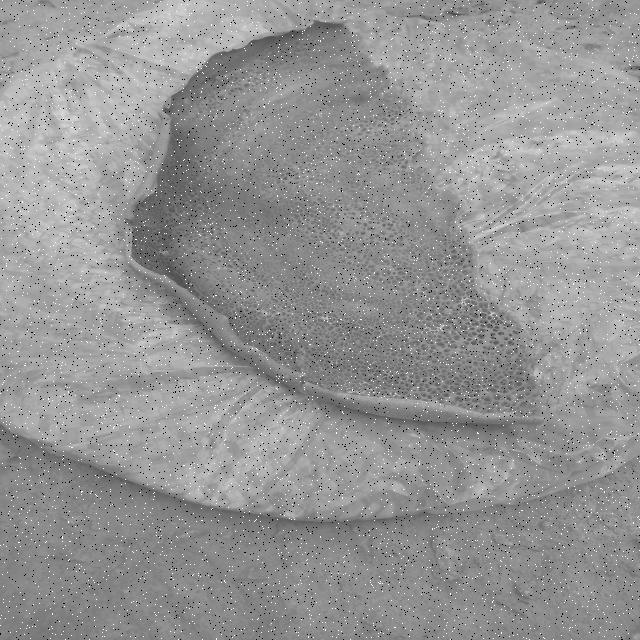injera_mold: (343, 380, 378, 396), (419, 322, 451, 336), (253, 307, 280, 318), (460, 296, 477, 312), (289, 320, 306, 332), (382, 370, 397, 380), (328, 230, 343, 240), (312, 240, 326, 247), (307, 378, 320, 385), (282, 233, 293, 241), (158, 248, 170, 255), (179, 211, 190, 217), (322, 315, 331, 321), (283, 296, 291, 302), (315, 298, 323, 304), (212, 114, 219, 120), (329, 361, 339, 365), (500, 389, 506, 393), (216, 266, 221, 270), (329, 322, 332, 324)
